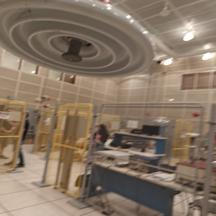insulator: (0, 0, 160, 90)
